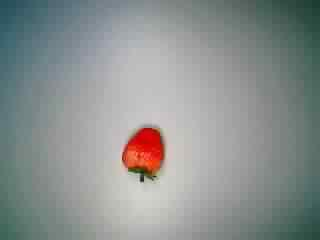strawberry: (105, 116, 171, 182)
